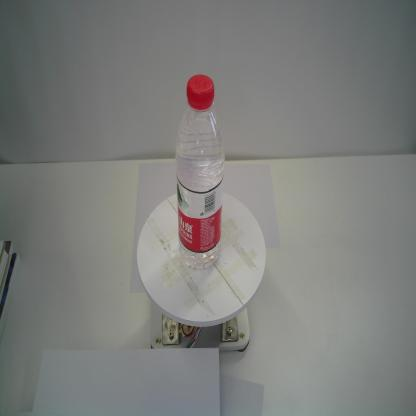Drink: (172, 71, 226, 274)
